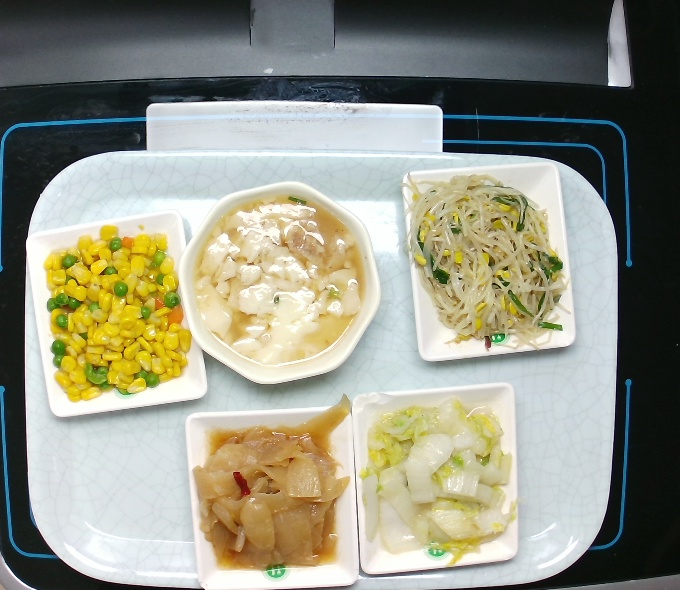wcq-DaBaiCai: (356, 394, 524, 572)
wcq-DongGua: (186, 392, 362, 577)
wcq-DouYa: (396, 166, 576, 357)
wcq-ShuiZhengDan: (184, 187, 373, 373)
wcq-TianMiTianDou: (38, 221, 199, 406)
